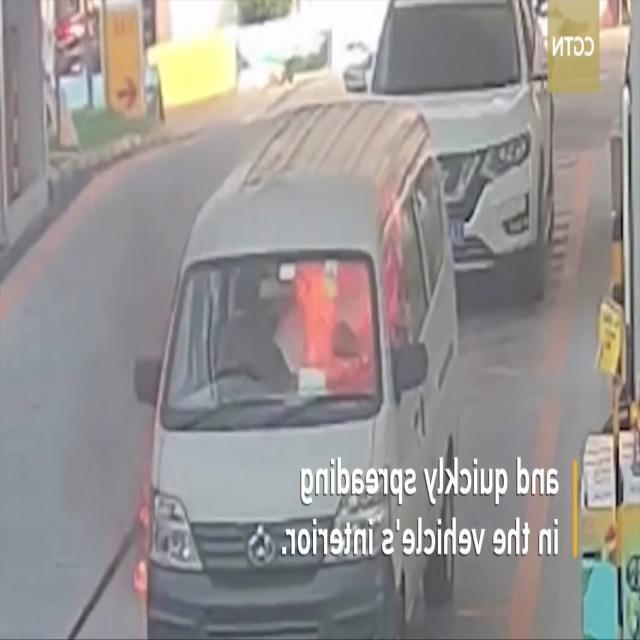fire: (288, 258, 378, 392), (378, 176, 402, 346), (130, 466, 154, 607)
